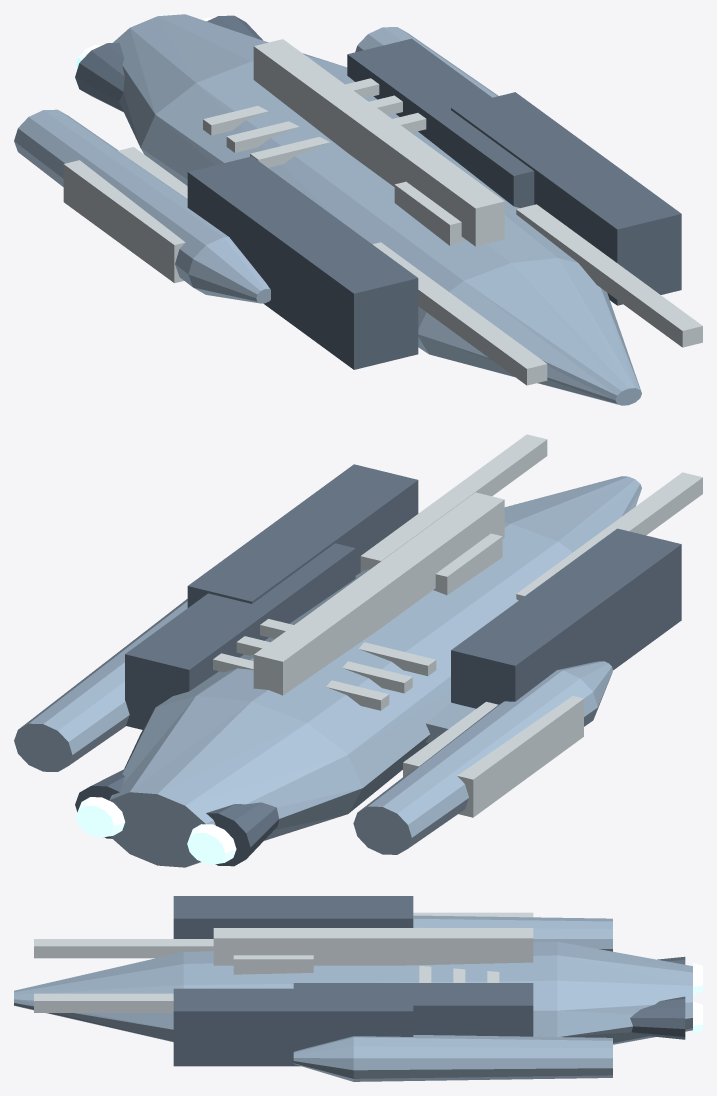
The picture shows the model from 3 angles, top to bottom: view 1: azimuth 30°, elevation 25°; view 2: azimuth 150°, elevation 25°; view 3: azimuth 270°, elevation 25°; orthographic projection. The views are drawn at different scales.
Size of the model in its own units: 3.28 by 1.15 by 6.62.
